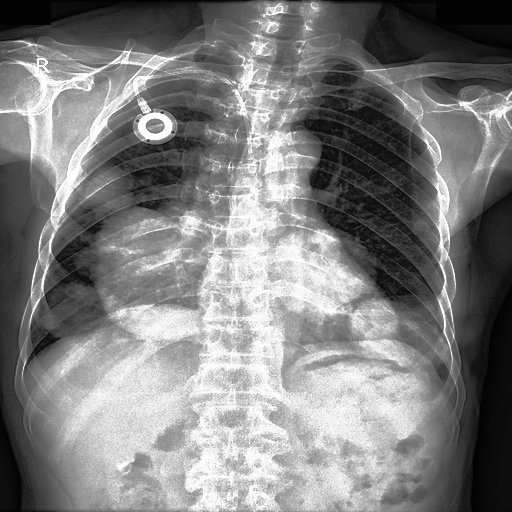Consolidation: (271, 128, 322, 169)
Other lesion: (65, 286, 88, 297), (45, 314, 57, 330)
Pleural thickening: (94, 208, 216, 343), (266, 230, 370, 313), (348, 301, 442, 373), (78, 173, 130, 202), (64, 280, 90, 299)
Pulmonary fibrosis: (96, 207, 208, 341), (266, 230, 370, 313), (348, 301, 442, 373), (84, 165, 131, 209), (65, 286, 88, 297), (414, 220, 430, 233), (45, 314, 57, 330)
